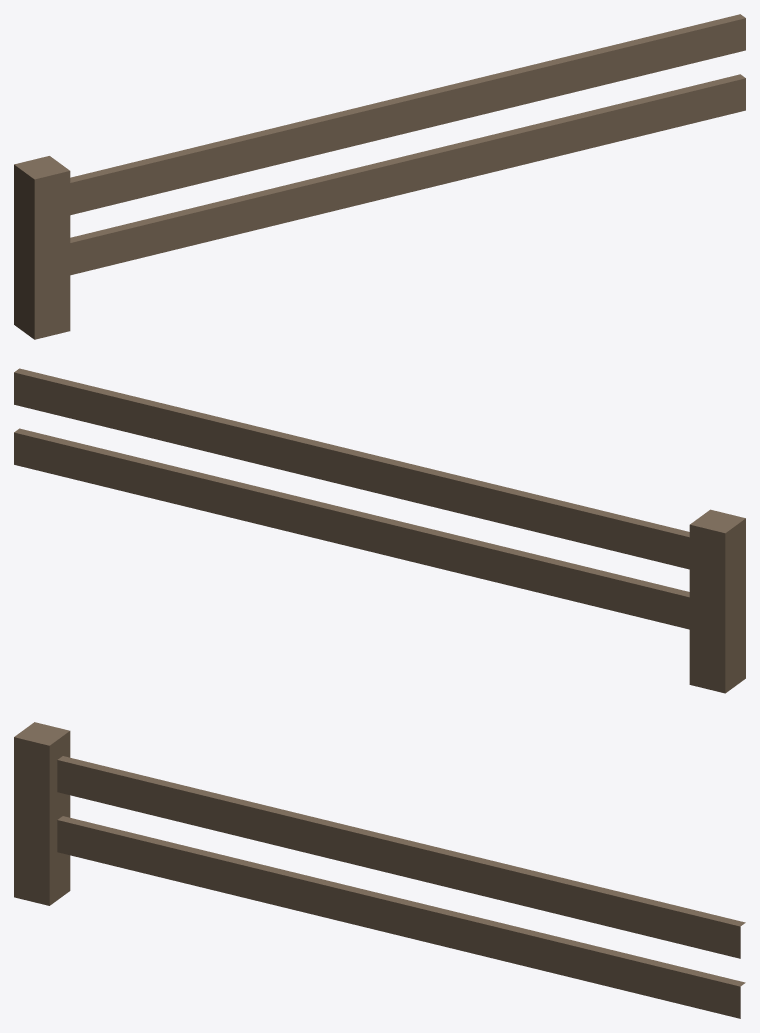
File: Fence_Long_02.gltf
The picture shows the model from 3 angles, top to bottom: view 1: azimuth 30°, elevation 25°; view 2: azimuth 150°, elevation 25°; view 3: azimuth 330°, elevation 25°; orthographic projection.
Parts seen in each view (by area): view 1: SF_Prop_Fence_Long_02; view 2: SF_Prop_Fence_Long_02; view 3: SF_Prop_Fence_Long_02.
Part boxes in pixels (bbox=[...]): SF_Prop_Fence_Long_02: bbox=[14, 14, 745, 339]; SF_Prop_Fence_Long_02: bbox=[14, 368, 745, 693]; SF_Prop_Fence_Long_02: bbox=[14, 722, 745, 1018].
Bounding box in the file's own units: 0.1038 × 0.0221 × 0.00515.
1 material, 1 textured.
